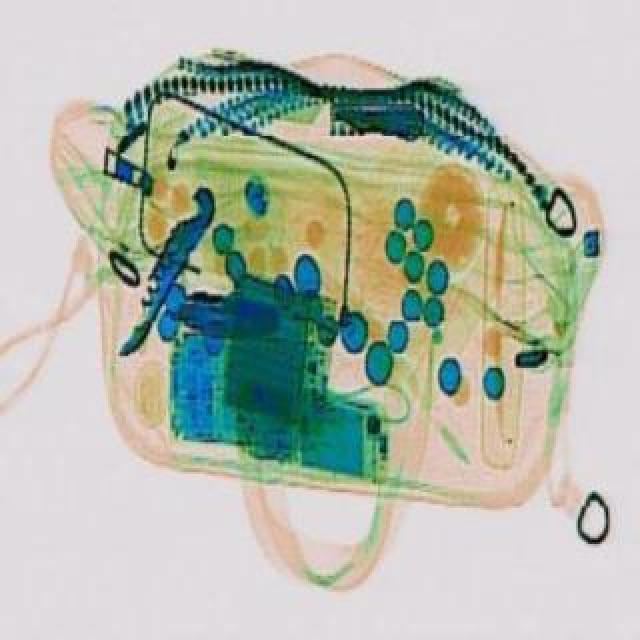knife: (104, 178, 224, 358)
